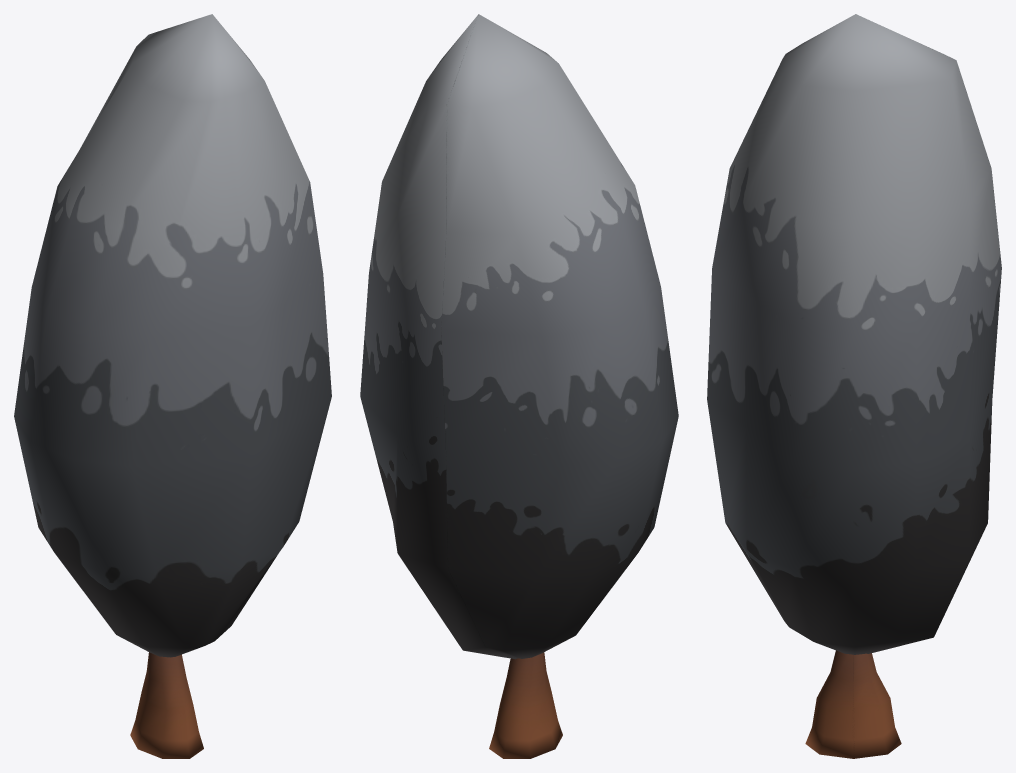
File: Tree_Black1.fbx
The picture shows the model from 3 angles, left to right: view 1: azimuth 30°, elevation 25°; view 2: azimuth 150°, elevation 25°; view 3: azimuth 270°, elevation 25°; orthographic projection. The views are drawn at different scales.
Visible parts, largest first — view 1: polySurface24; view 2: polySurface24; view 3: polySurface24.
Part boxes in pixels (x1=…): polySurface24: x1=14, y1=14, x2=331, y2=758; polySurface24: x1=360, y1=14, x2=678, y2=758; polySurface24: x1=707, y1=14, x2=1001, y2=758.
Bounding box in the file's own units: 2.64 × 6.31 × 2.24.
